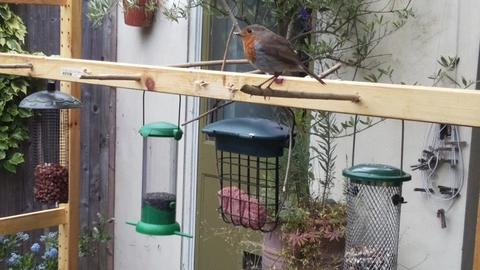robin: (232, 24, 327, 101)
